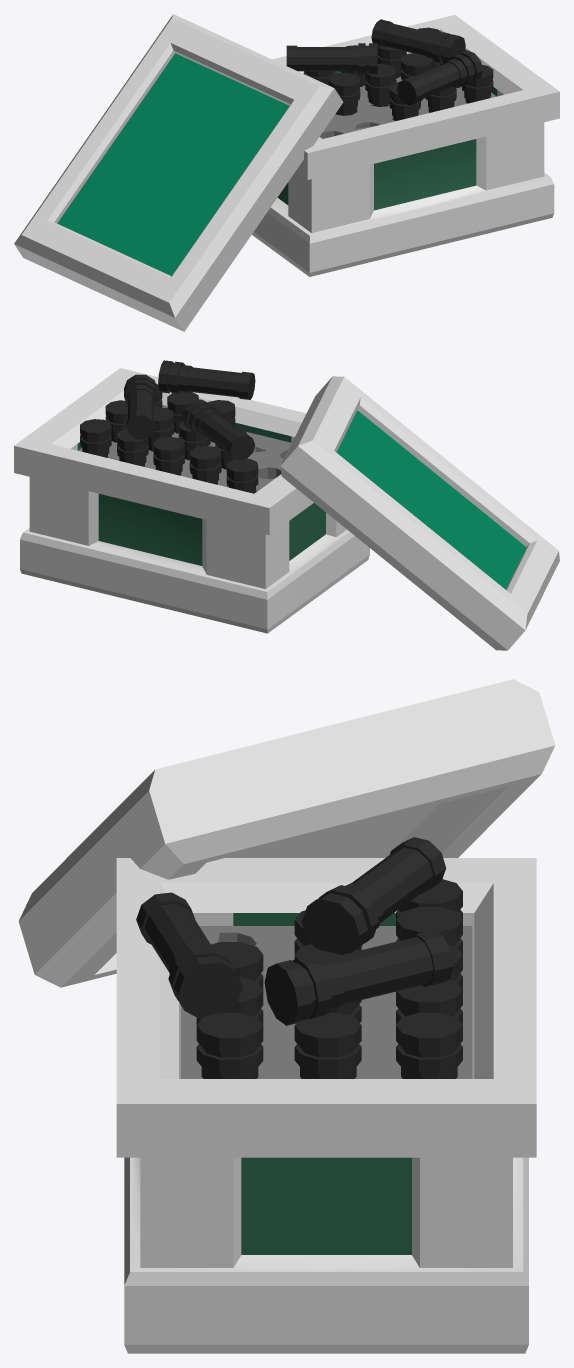
File: Destroyed_open_big_chest.fbx
3 renders of one model, top to bottom at view 1: azimuth 30°, elevation 25°; view 2: azimuth 150°, elevation 25°; view 3: azimuth 270°, elevation 25°, orthographic. The views are drawn at different scales.
Parts seen in each view (by area): view 1: polySurface2060, polySurface2054, polySurface2067, polySurface2870, polySurface2871, polySurface2069, polySurface2056, polySurface2058, polySurface2064, polySurface2057, polySurface2072, polySurface2070 (+1 smaller); view 2: polySurface2054, polySurface2060, polySurface2871, polySurface2067, polySurface2069, polySurface2870, polySurface2066, polySurface2065, polySurface2063, polySurface2068, polySurface2059, polySurface2057 (+4 smaller); view 3: polySurface2054, polySurface2060, polySurface2069, polySurface2870, polySurface2067, polySurface2871, polySurface2064, polySurface2063, polySurface2062, polySurface2059, polySurface2066, polySurface2072 (+2 smaller).
Boxes of the visible parts, box(x1,y1,x2,y2) form: polySurface2060: box(14, 14, 343, 331); polySurface2054: box(252, 15, 559, 276); polySurface2067: box(286, 43, 377, 74); polySurface2870: box(371, 19, 465, 64); polySurface2871: box(397, 50, 482, 105); polySurface2069: box(319, 76, 496, 138); polySurface2056: box(365, 63, 396, 106); polySurface2058: box(329, 72, 360, 115); polySurface2064: box(462, 64, 493, 103); polySurface2057: box(401, 53, 432, 79); polySurface2072: box(389, 82, 420, 121); polySurface2070: box(425, 86, 456, 112); polySurface2054: box(14, 368, 369, 633); polySurface2060: box(280, 376, 559, 650); polySurface2871: box(158, 360, 255, 399); polySurface2067: box(182, 399, 255, 460); polySurface2069: box(78, 432, 291, 493); polySurface2870: box(124, 374, 157, 439); polySurface2066: box(189, 446, 221, 484); polySurface2065: box(153, 437, 184, 475); polySurface2063: box(80, 419, 111, 457); polySurface2068: box(226, 458, 258, 493); polySurface2059: box(117, 429, 148, 466); polySurface2057: box(148, 407, 174, 451); polySurface2054: box(116, 858, 536, 1353); polySurface2060: box(18, 679, 555, 987); polySurface2069: box(181, 926, 472, 1078); polySurface2870: box(264, 929, 453, 1025); polySurface2067: box(301, 837, 446, 954); polySurface2871: box(136, 892, 242, 1019); polySurface2064: box(196, 1012, 263, 1078); polySurface2063: box(396, 1012, 462, 1078); polySurface2062: box(294, 1012, 361, 1078); polySurface2059: box(396, 979, 462, 1024); polySurface2066: box(396, 906, 462, 954); polySurface2072: box(211, 942, 263, 988).
Bounding box in the file's own units: 3.13 × 1.28 × 1.54.
